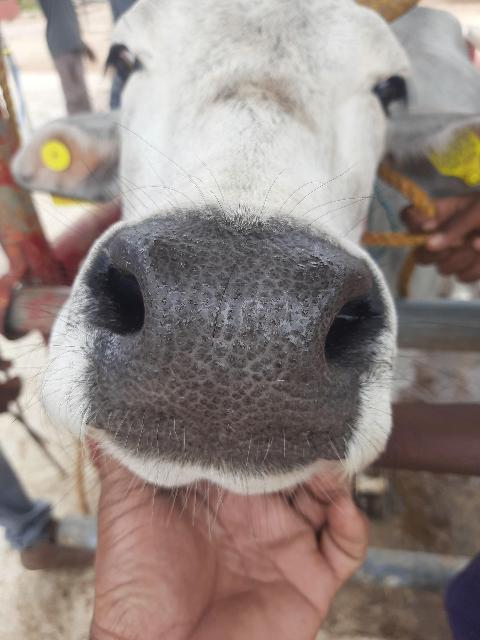Muzzle: (116, 238, 344, 454)
